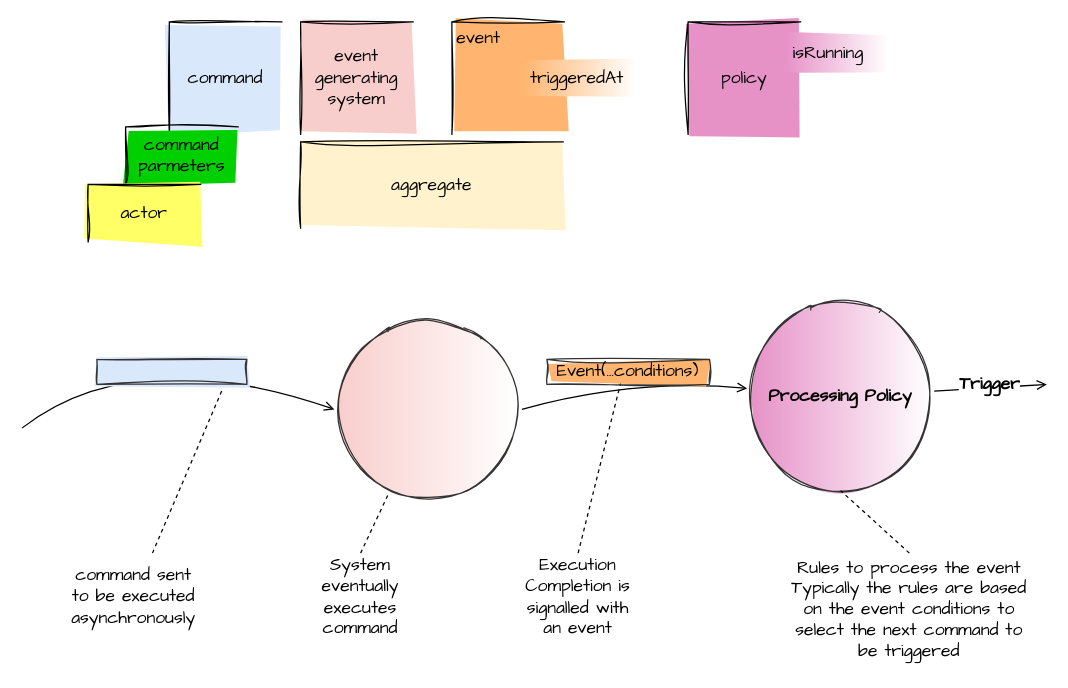
Some shapes in this 1068 by 688 pixel diagram are drawn without their labels. Each missing label, with the centre of its shape:
Command(...args): (171,371)
System: (427,408)
